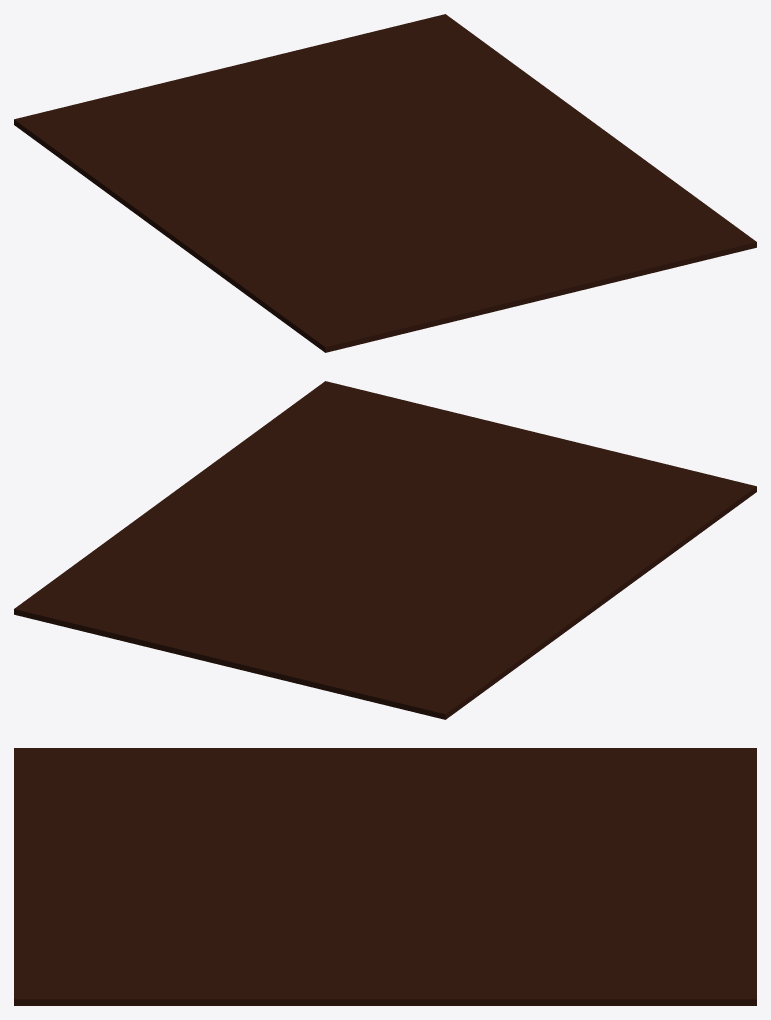
The model's file is decke.fbx.
3 renders of one model, top to bottom at view 1: azimuth 30°, elevation 25°; view 2: azimuth 150°, elevation 25°; view 3: azimuth 270°, elevation 25°, orthographic. The views are drawn at different scales.
Parts seen in each view (by area): view 1: Plane; view 2: Plane; view 3: Plane.
Part boxes in pixels (box(x1,y1,x2,y2)): Plane: box(14, 14, 756, 352); Plane: box(14, 381, 756, 719); Plane: box(14, 748, 756, 1005).
Size of the model in its own units: 8000 by 150 by 10000.
